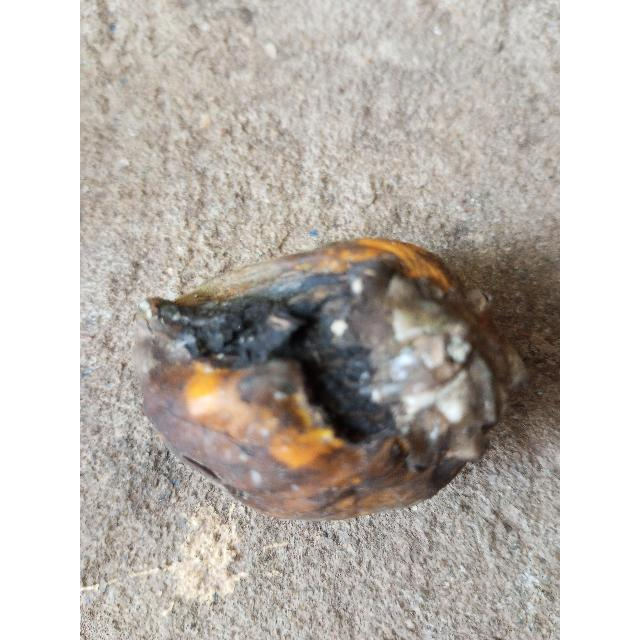damaged: (133, 239, 526, 519)
